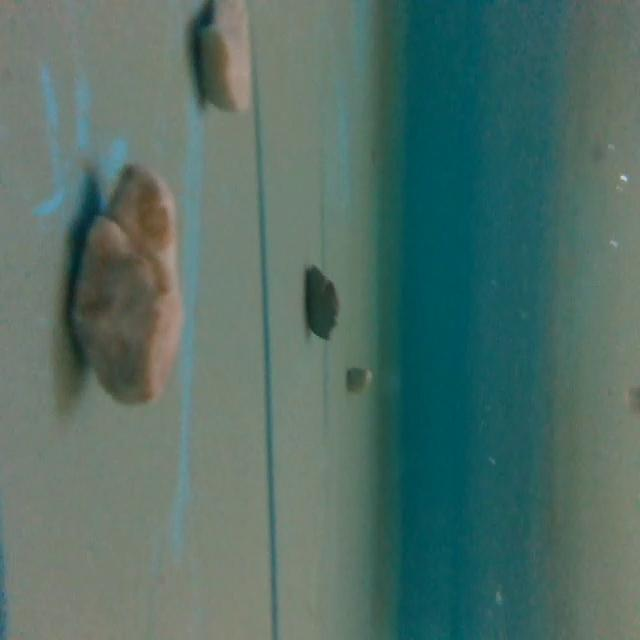rock: (65, 157, 188, 420), (194, 2, 256, 119), (305, 263, 342, 345), (343, 361, 373, 395)
